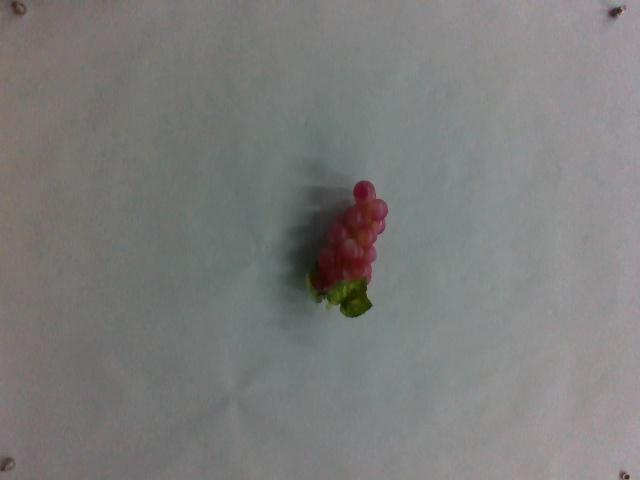grape: (307, 175, 387, 320)
